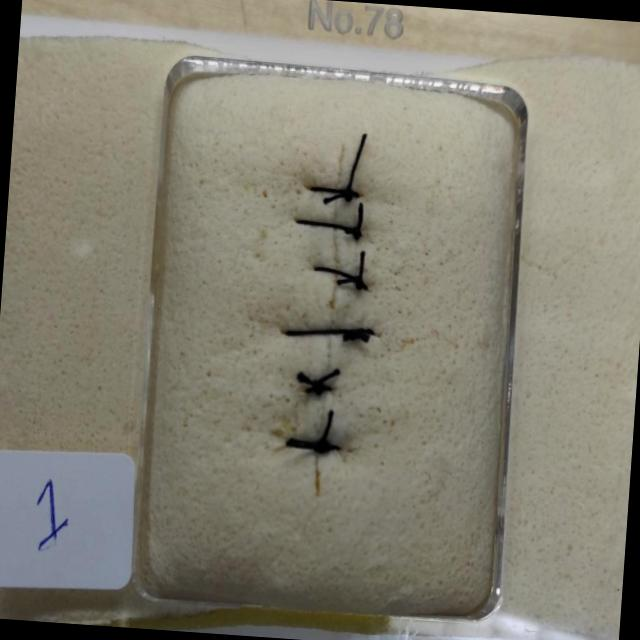knot: (314, 440, 330, 452), (313, 380, 323, 395), (353, 328, 365, 338), (344, 188, 352, 202), (352, 227, 361, 239), (355, 276, 363, 289)
leftover: (346, 132, 366, 194), (319, 409, 332, 447), (316, 369, 339, 387), (322, 190, 349, 203), (296, 373, 319, 387), (286, 440, 322, 447), (357, 250, 364, 285), (355, 201, 362, 233), (342, 328, 359, 341), (335, 277, 360, 285), (356, 329, 369, 340), (344, 229, 358, 233)
stitch: (313, 266, 367, 290), (295, 219, 361, 234), (284, 328, 374, 335), (288, 438, 340, 450), (308, 186, 360, 197), (305, 383, 332, 393)
wound: (313, 144, 344, 497)
